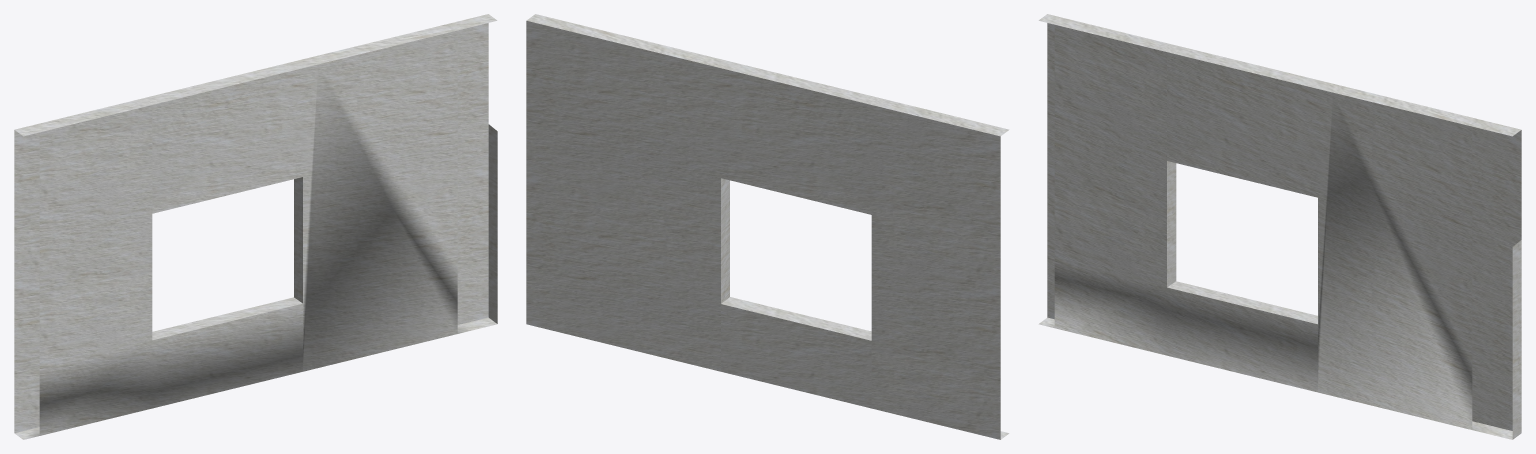
The model's file is wall_08.obj.
The picture shows the model from 3 angles, left to right: view 1: azimuth 30°, elevation 25°; view 2: azimuth 150°, elevation 25°; view 3: azimuth 330°, elevation 25°; orthographic projection.
Visible parts, largest first — view 1: Cube.001; view 2: Cube.001; view 3: Cube.001.
Part boxes in pixels (box(x1,y1,x2,y2)): Cube.001: box(14, 14, 497, 439); Cube.001: box(526, 14, 1009, 439); Cube.001: box(1038, 14, 1521, 439).
Size of the model in its own units: 8.38 by 5.13 by 0.2805.
Materials: 1 (1 with a texture image).
